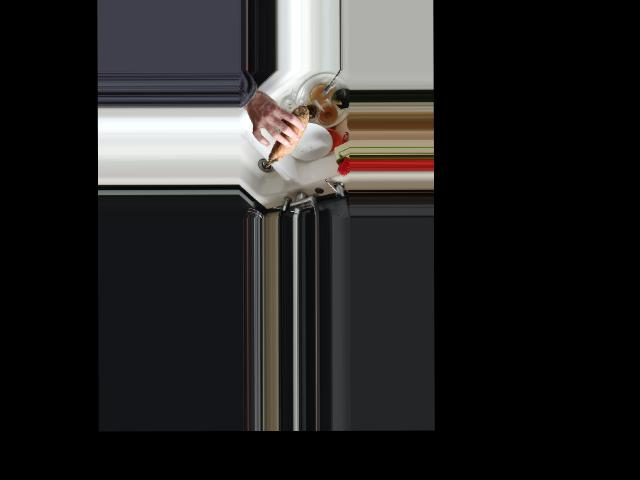sweet_potato: (265, 106, 309, 167)
